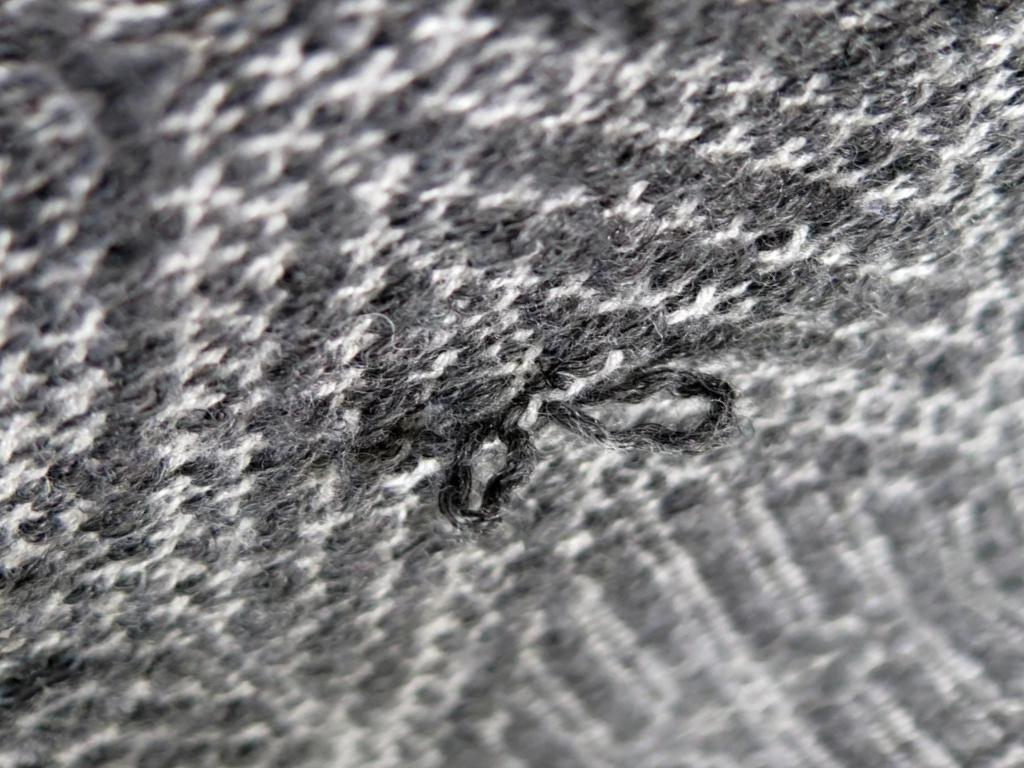snag: (548, 358, 762, 462), (431, 410, 535, 538)
